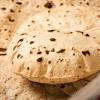roti: (11, 8, 100, 82)
